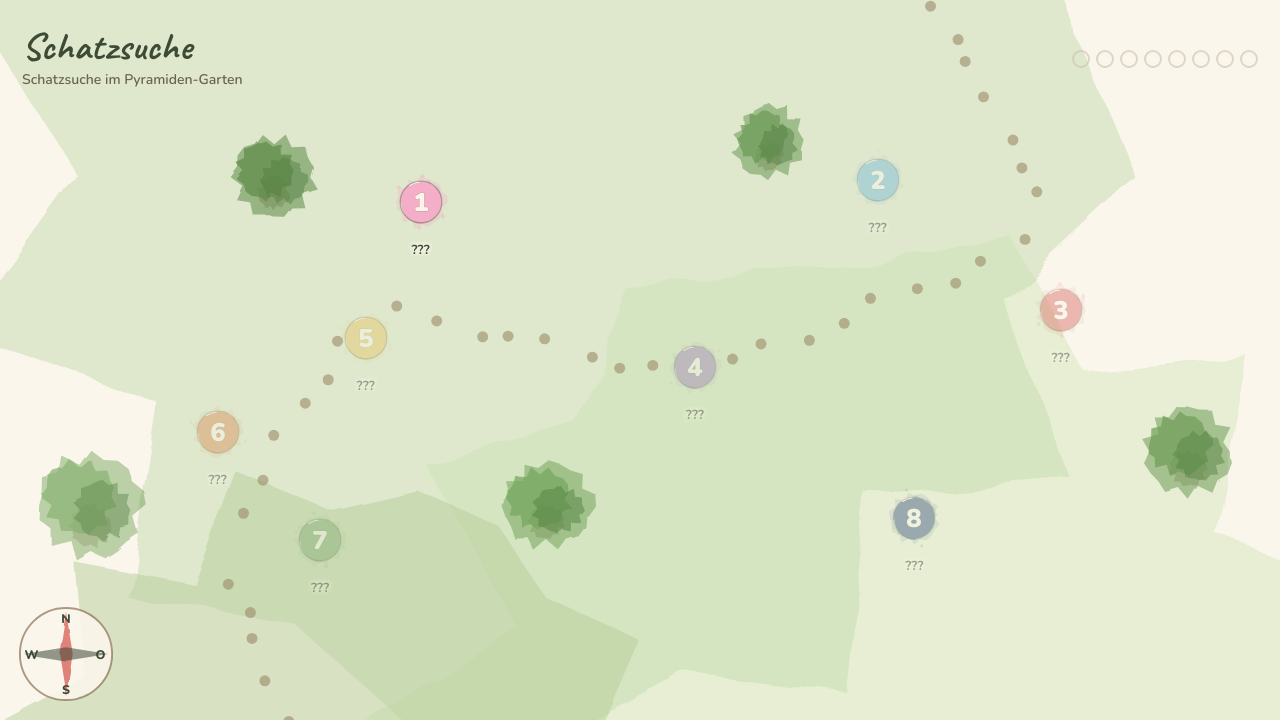
it: MapScreen › Glücksrad / generator › clicking MILLA in the modal assigns slot 1 after the spin
The width and height of the screenshot is (1280, 720).
Step 1. Click the button named "Glücksrad öffnen" → (66, 654), box [18, 606, 114, 702]
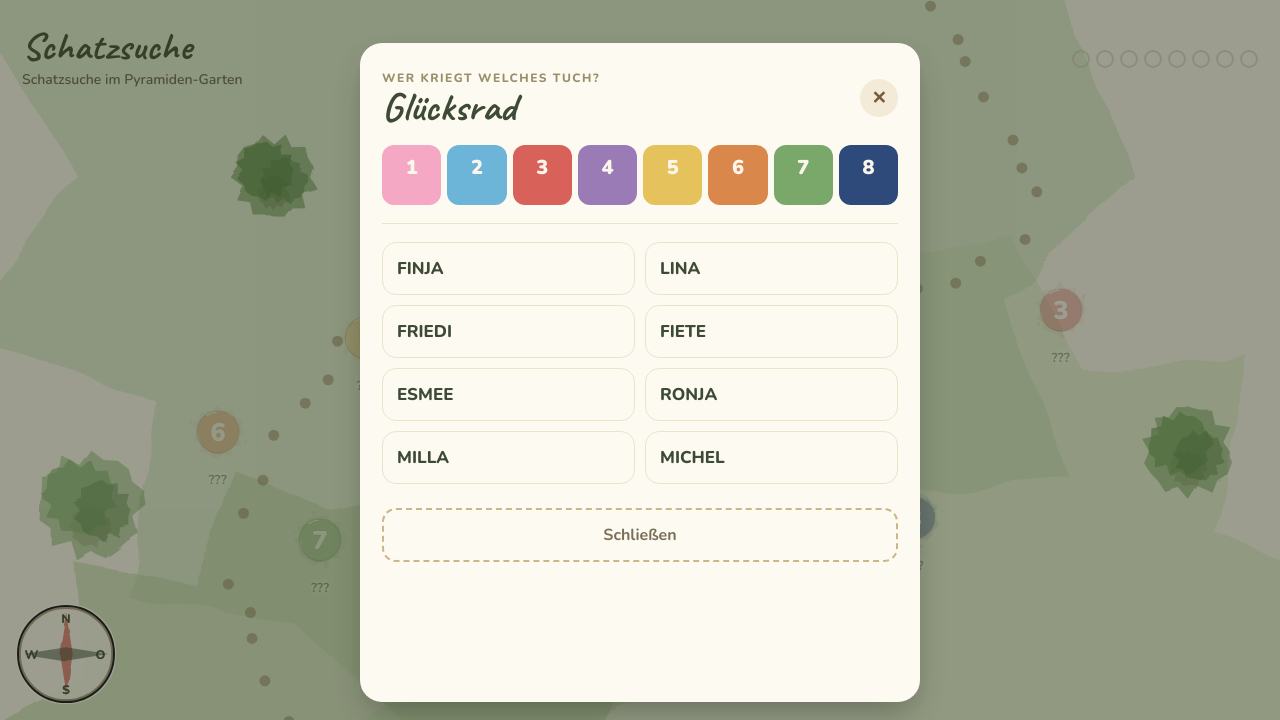
Step 2. Click the button with aria-label "MILLA zuweisen" → (508, 458), box [382, 431, 635, 484]
Wait 1600 ms
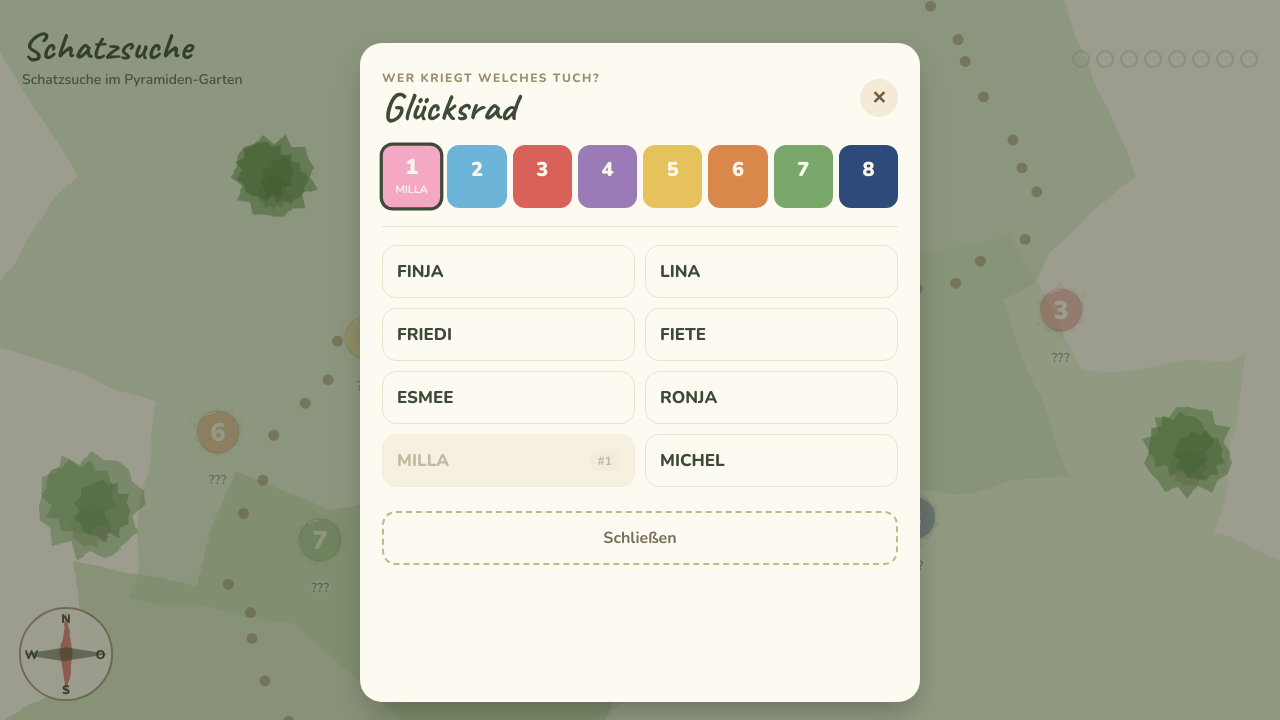
Check: the 2nd text "MILLA" is shown, box [401, 244, 440, 257]
Check: the button with test id "station-marker-1" shows "MILLA", box [381, 162, 461, 242]
